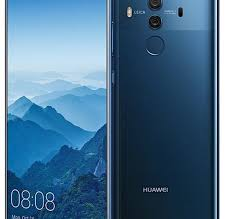huawei: (1, 1, 113, 219), (112, 1, 221, 219)
